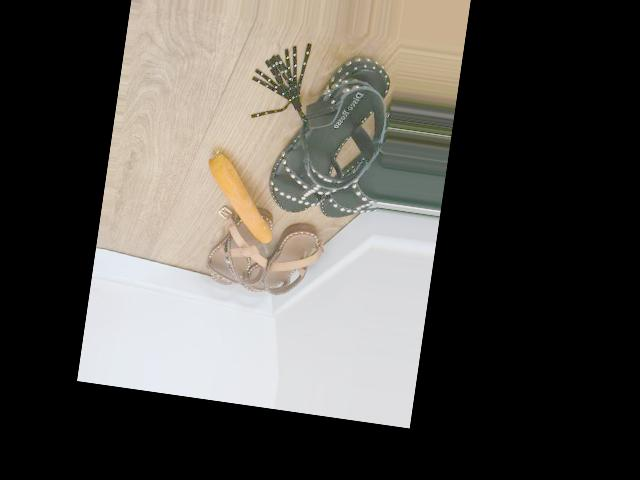carrot: (199, 153, 285, 243)
